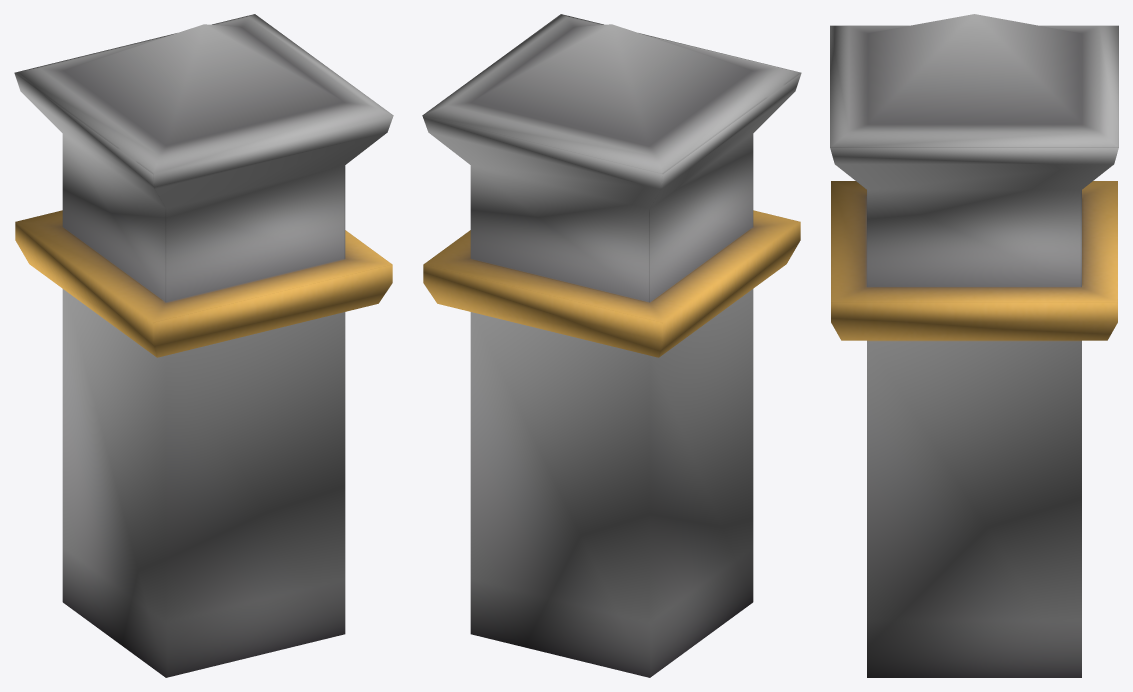
File: ColunaParapeitoSuperiorTringular.fbx
3 views of the same model, side by side, from view 1: azimuth 30°, elevation 25°; view 2: azimuth 150°, elevation 25°; view 3: azimuth 270°, elevation 25° (orthographic). The views are drawn at different scales.
Parts seen in each view (by area): view 1: ColunaParapeitoSuperiorTringular; view 2: ColunaParapeitoSuperiorTringular; view 3: ColunaParapeitoSuperiorTringular.
Boxes of the visible parts, left/top/right/bottom form: ColunaParapeitoSuperiorTringular: left=14, top=14, right=393, bottom=677; ColunaParapeitoSuperiorTringular: left=422, top=14, right=801, bottom=677; ColunaParapeitoSuperiorTringular: left=830, top=14, right=1118, bottom=677.
Bounding box in the file's own units: 40.29 × 95 × 40.21.
